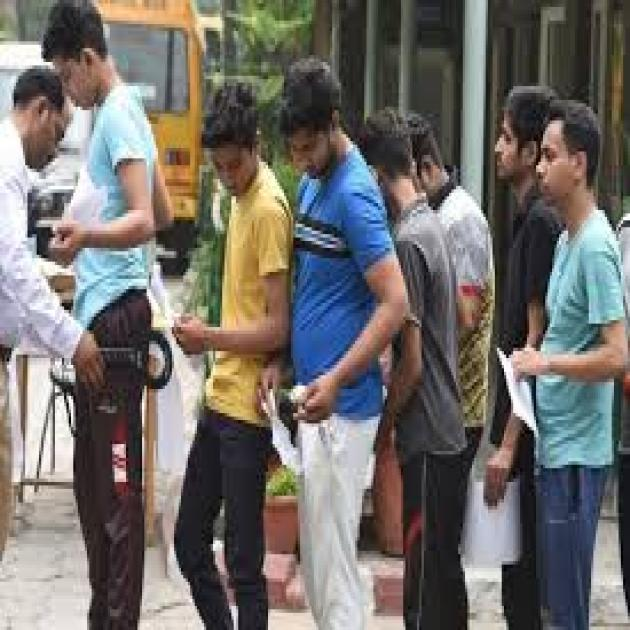there is a person: (176, 24, 308, 595), (45, 4, 160, 630), (492, 85, 630, 514), (374, 98, 494, 460)
